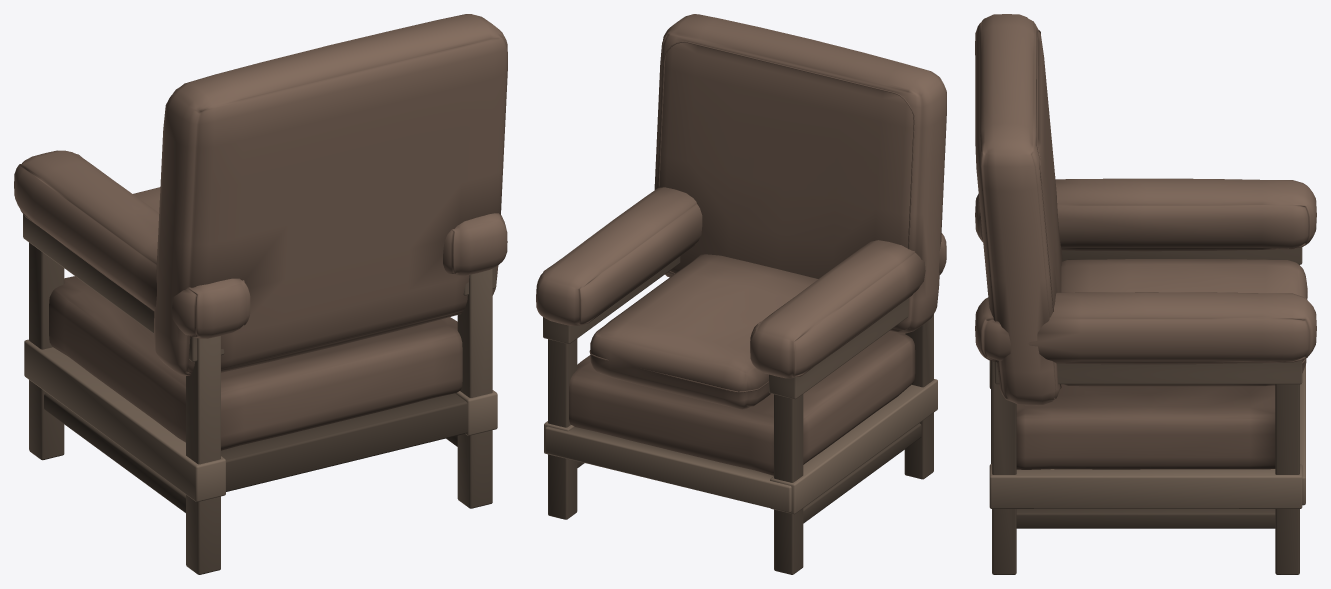
Rendered from armchair.glb.
3 renders of one model, left to right at view 1: azimuth 30°, elevation 25°; view 2: azimuth 150°, elevation 25°; view 3: azimuth 270°, elevation 25°, orthographic. The views are drawn at different scales.
Visible parts, largest first — view 1: fabric, wood; view 2: fabric, wood; view 3: fabric, wood.
Boxes of the visible parts, x1,y1,x2,y2 form: fabric: [14, 14, 507, 450]; wood: [23, 214, 497, 574]; fabric: [536, 14, 946, 475]; wood: [543, 256, 937, 574]; fabric: [975, 14, 1316, 469]; wood: [989, 247, 1305, 574].
Size of the model in its own units: 0.7 by 0.99 by 0.7.
